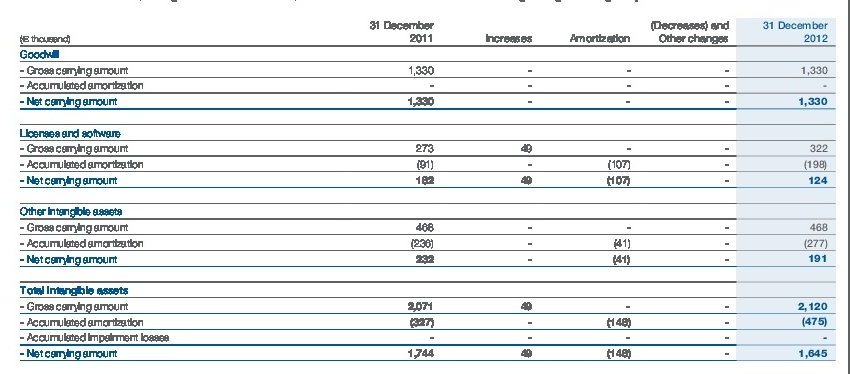table: (0, 0, 850, 374)
